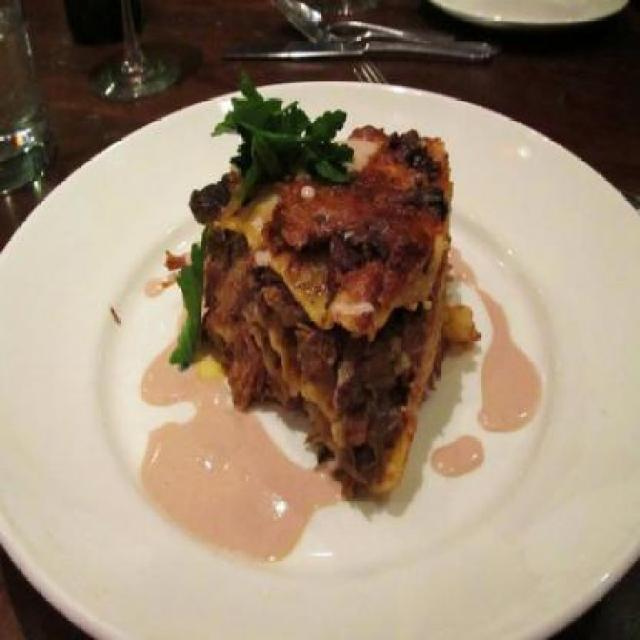Lasagna: (182, 109, 496, 517)
